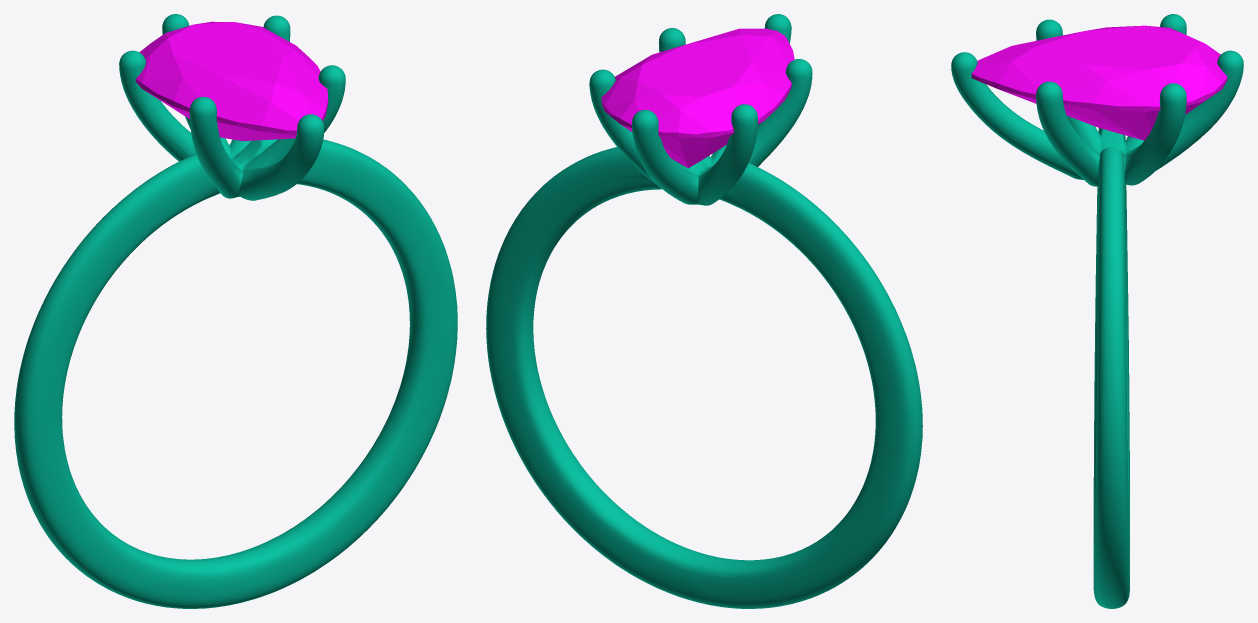
The model's file is BE14112_PE_200ct_RENDER.glb.
3 views of the same model, side by side, from view 1: azimuth 30°, elevation 25°; view 2: azimuth 150°, elevation 25°; view 3: azimuth 270°, elevation 25° (orthographic).
Visible parts, largest first — view 1: Metal 01, CS_Diamond_Pear; view 2: Metal 01, CS_Diamond_Pear; view 3: Metal 01, CS_Diamond_Pear.
Boxes of the visible parts, <box> form: Metal 01: <box>14,14,457,608</box>; CS_Diamond_Pear: <box>135,21,328,141</box>; Metal 01: <box>486,14,922,608</box>; CS_Diamond_Pear: <box>601,28,794,168</box>; Metal 01: <box>951,14,1243,608</box>; CS_Diamond_Pear: <box>971,25,1227,140</box>.
Bounding box in the file's own units: 20.51 × 24.43 × 12.03.
